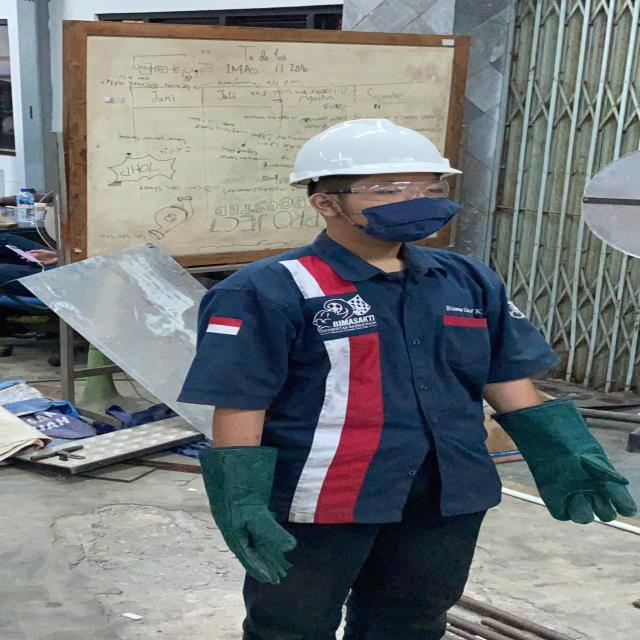face_mask: (348, 173, 461, 240)
glasses: (319, 179, 455, 203)
hand_glove: (188, 483, 316, 588), (504, 431, 640, 528)
head_helmet: (285, 117, 463, 182)
person: (181, 107, 631, 640)
